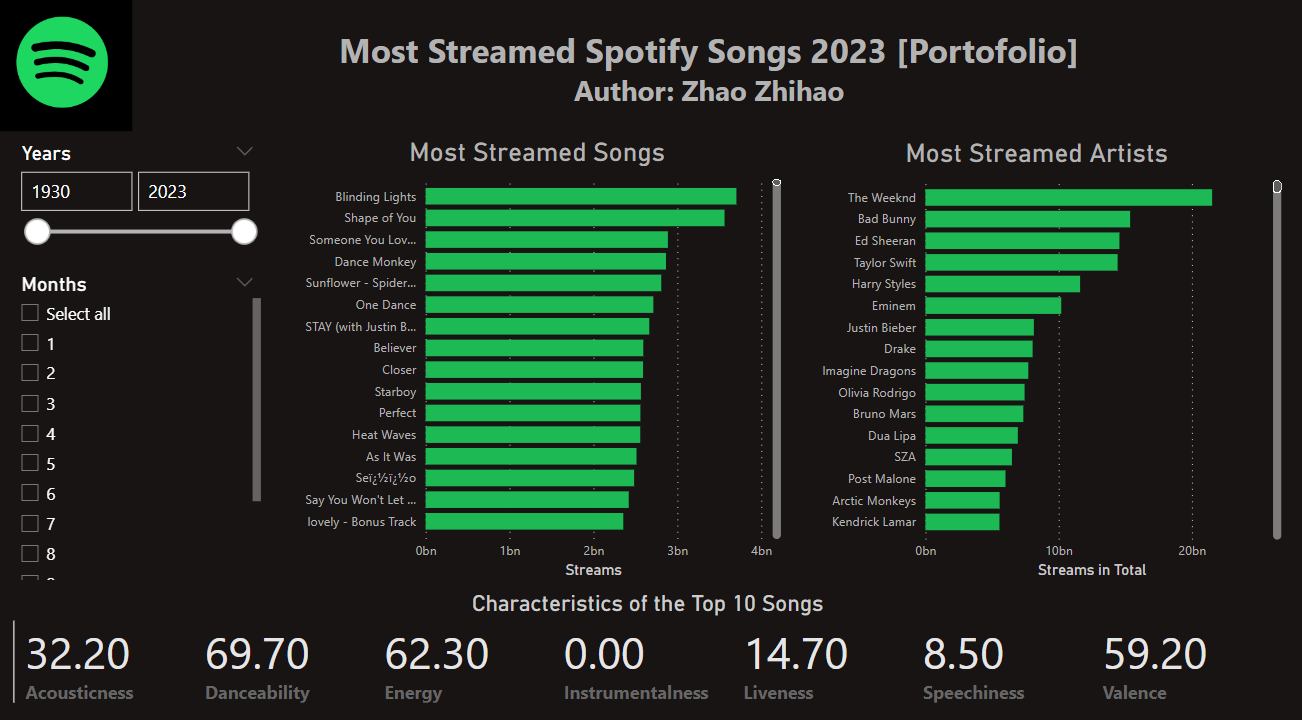

The page's visual inventory and layout, read from the dashboard file:
{"tool":"powerbi","page":{"name":"Overview","canvas":[1280,720],"ordinal":0},"visuals":[{"type":"clusteredBarChart","title":"Most Streamed Artists","fields":{"Category":["spotify-2023.artist(s)_name.1"],"Y":["Sum(spotify-2023.streams)"]},"box":[770.7,146.3,482.4,430.2],"z":0},{"type":"image","box":[0,0,144,145.3],"z":1000},{"type":"clusteredBarChart","title":"Most Streamed Songs","fields":{"Y":["Sum(spotify-2023.streams)"],"Category":["spotify-2023.track_name"]},"box":[289.7,144.8,480.8,430.9],"z":2000},{"type":"slicer","title":"Years","fields":{"Values":["spotify-2023.released_year"]},"box":[18.8,144.9,249.2,165.1],"z":3000},{"type":"slicer","title":"Months","fields":{"Values":["spotify-2023.released_month"]},"box":[18.8,270.9,249.2,305.7],"z":4000},{"type":"multiRowCard","title":"Characteristics of the Top 10 Songs","fields":{"Values":["Avg(spotify-2023.acousticness_%)","Avg(spotify-2023.danceability_%)","Avg(spotify-2023.energy_%)","Avg(spotify-2023.instrumentalness_%)","Avg(spotify-2023.liveness_%)","Avg(spotify-2023.speechiness_%)","Avg(spotify-2023.valence_%)"]},"box":[18.8,582.3,1234.2,137.6],"z":5000},{"type":"textbox","box":[199.9,33.3,990.9,111.5],"z":6000}]}

Visuals, with their boxes in screenshot pixels (x1, y1, x2, y2), scaled from the page's 1280x720 canvas onto the 1302x720 screenshot:
"Most Streamed Artists" clusteredBarChart: <region>784, 146, 1275, 576</region>
image: <region>0, 0, 146, 145</region>
"Most Streamed Songs" clusteredBarChart: <region>295, 145, 784, 576</region>
"Years" slicer: <region>19, 145, 273, 310</region>
"Months" slicer: <region>19, 271, 273, 577</region>
"Characteristics of the Top 10 Songs" multiRowCard: <region>19, 582, 1275, 719</region>
textbox: <region>203, 33, 1211, 145</region>
